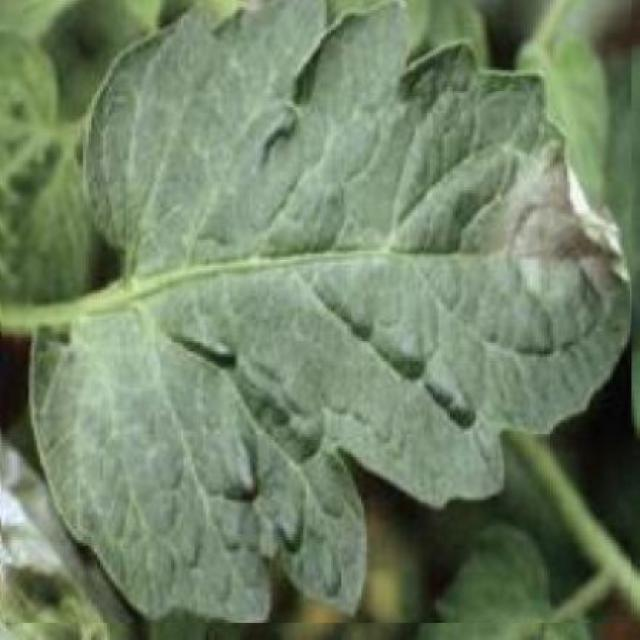Late Blight: (1, 0, 632, 623)
